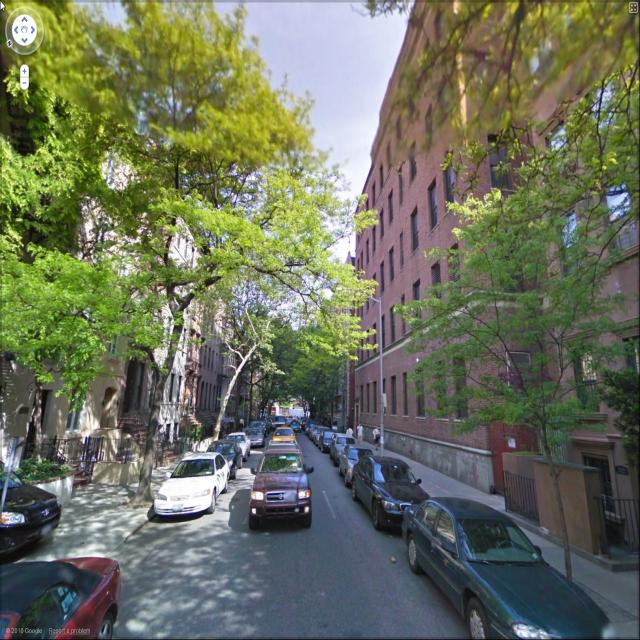b_2: (356, 4, 632, 534), (66, 128, 204, 446), (1, 30, 66, 451), (160, 203, 220, 471), (200, 272, 257, 443), (322, 242, 361, 438), (183, 258, 231, 416)
